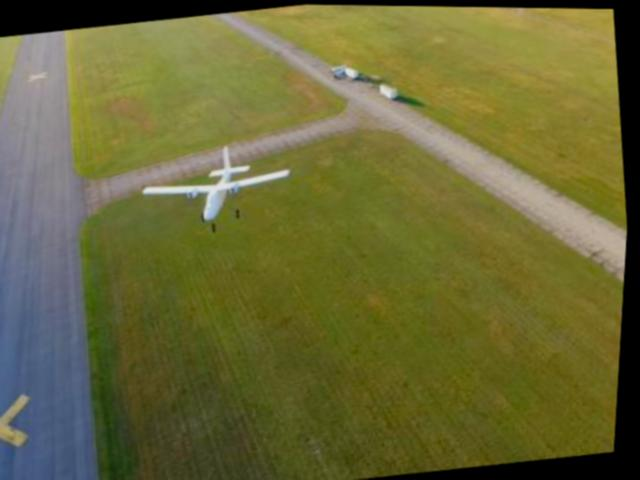uav: (139, 136, 296, 230)
